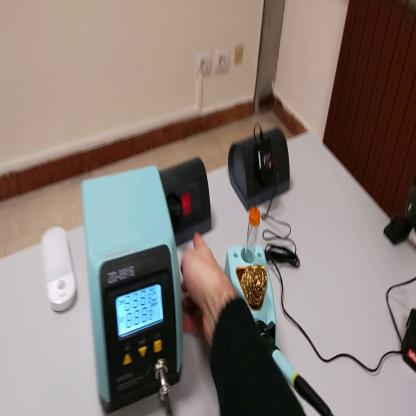electric screwdriver battery: (403, 308, 416, 373)
hand: (178, 227, 232, 342)
socket: (230, 126, 291, 212), (158, 153, 211, 245)
welder base: (227, 209, 276, 353)
welder probe tip: (263, 328, 332, 415)
welder station: (83, 163, 185, 414)
